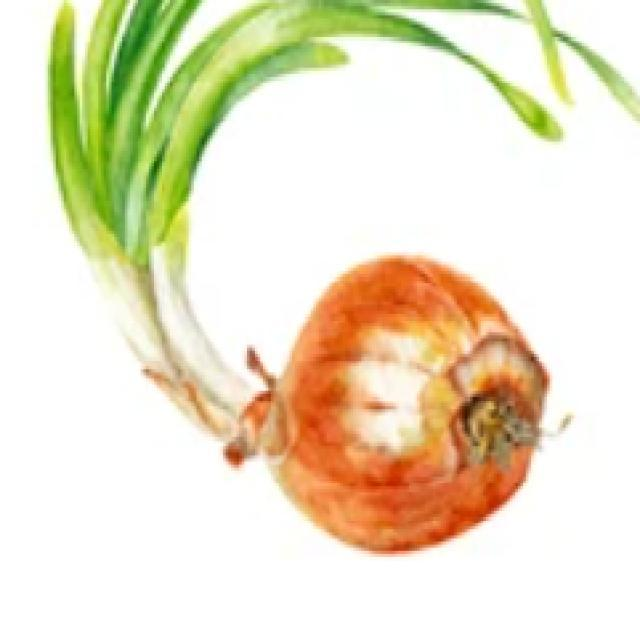sprouting: (58, 0, 271, 437)
